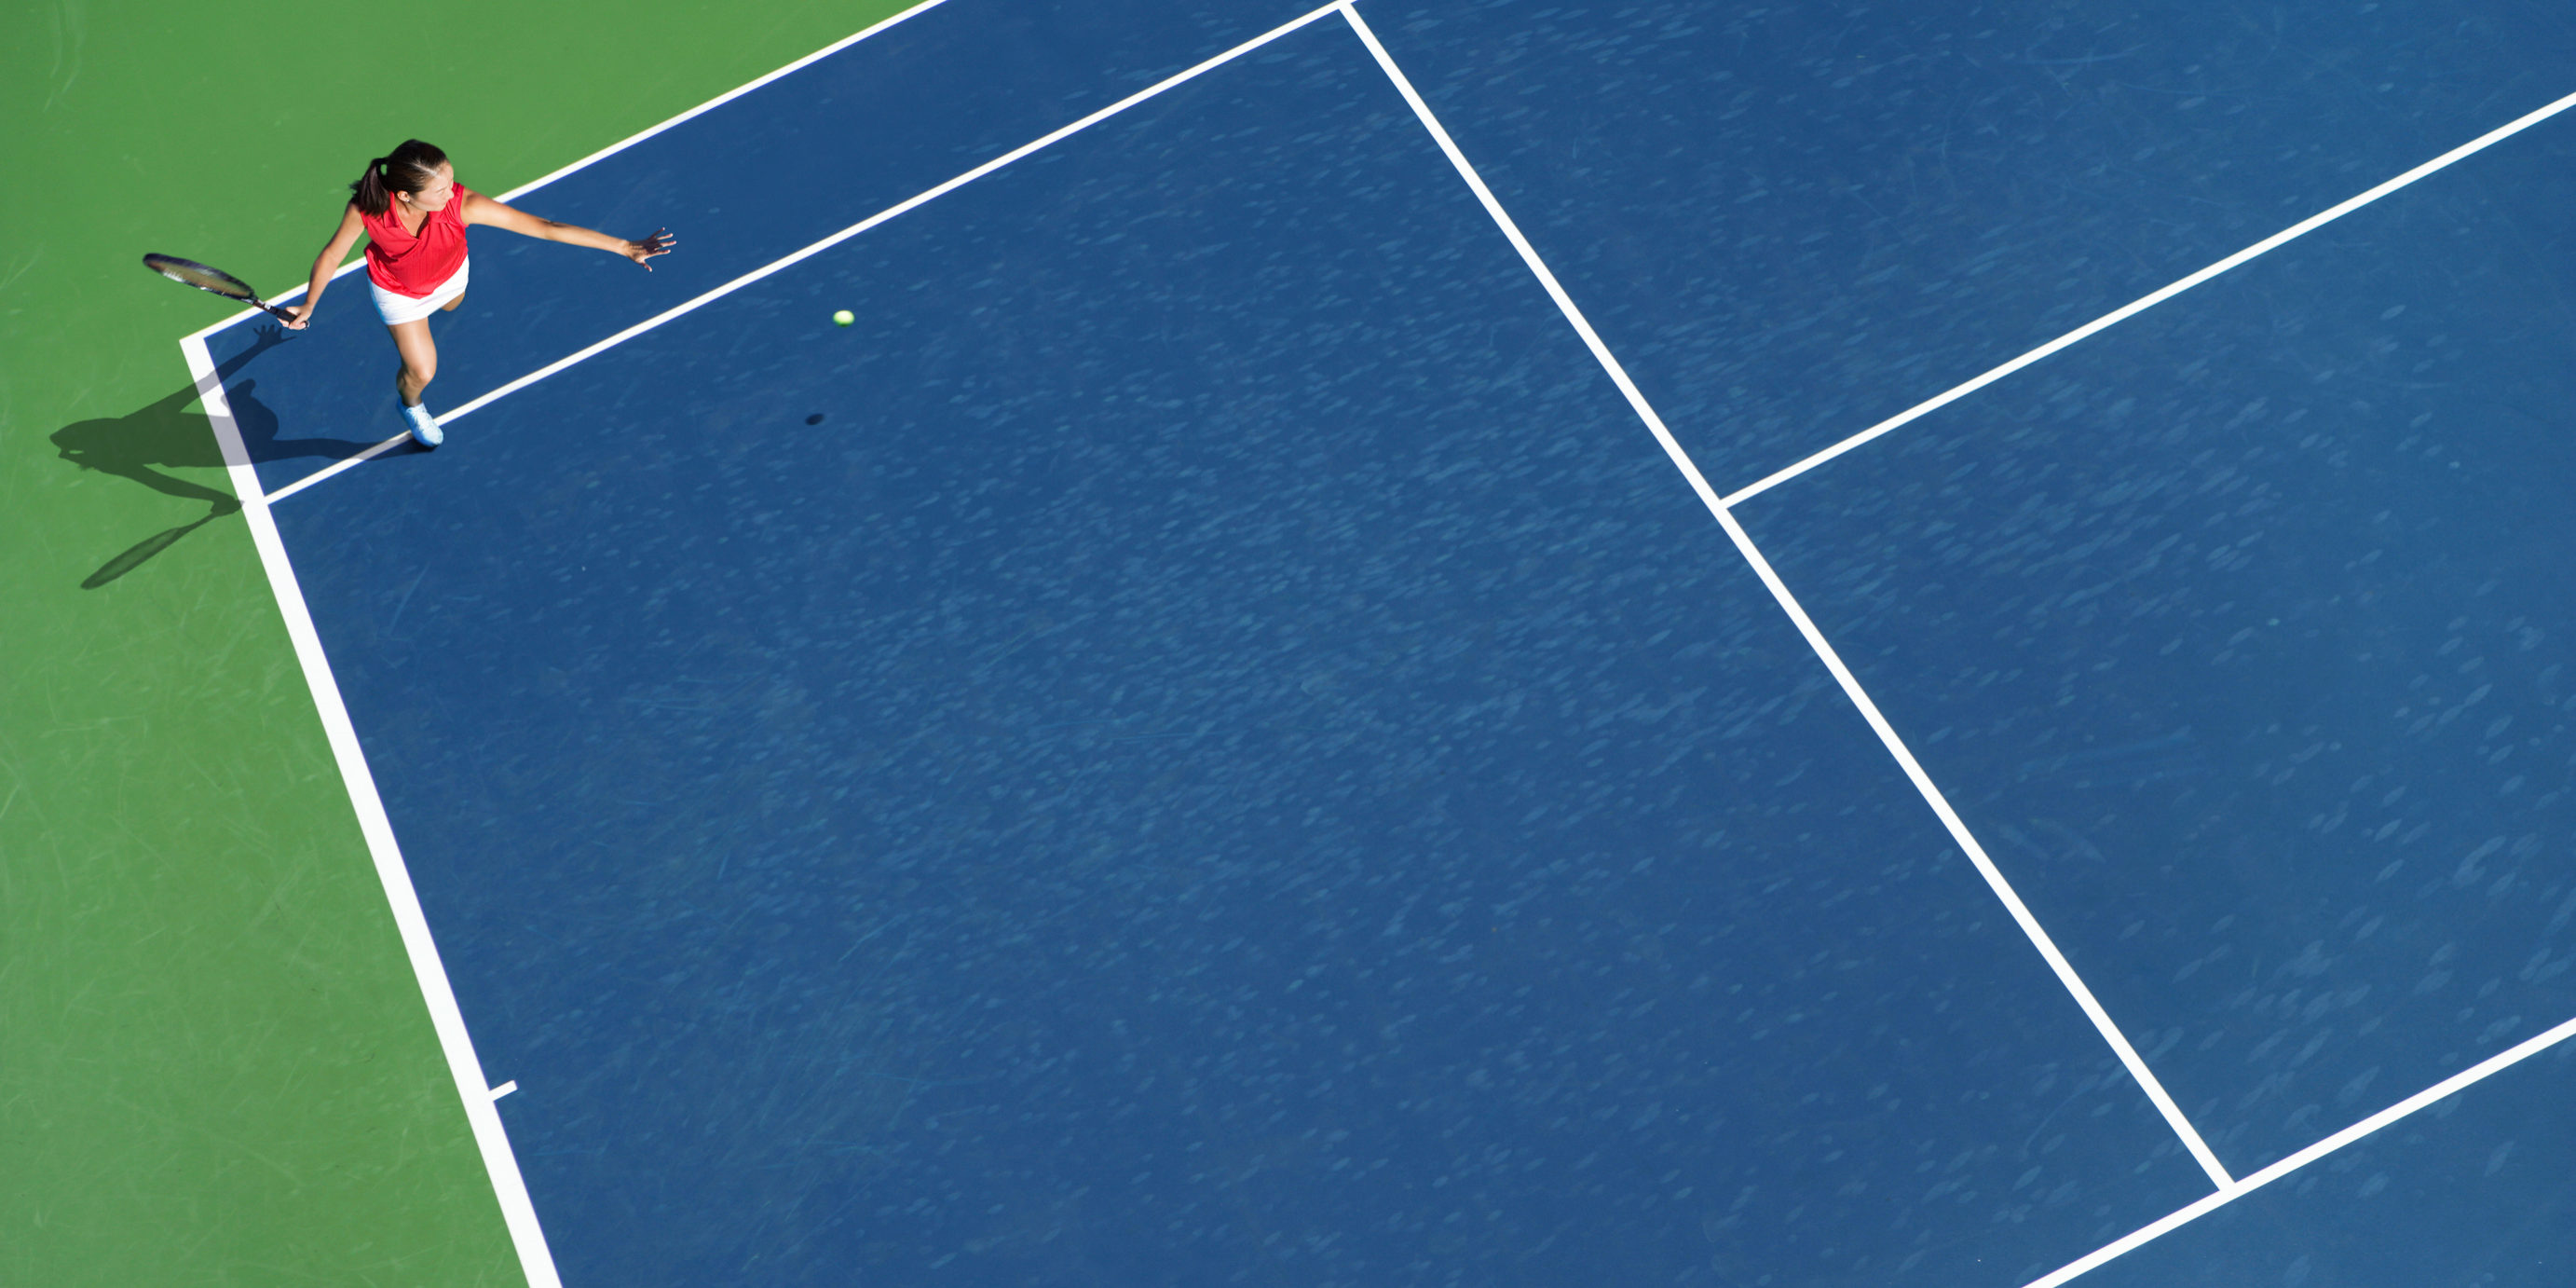tennis_ball: (825, 296, 858, 335)
